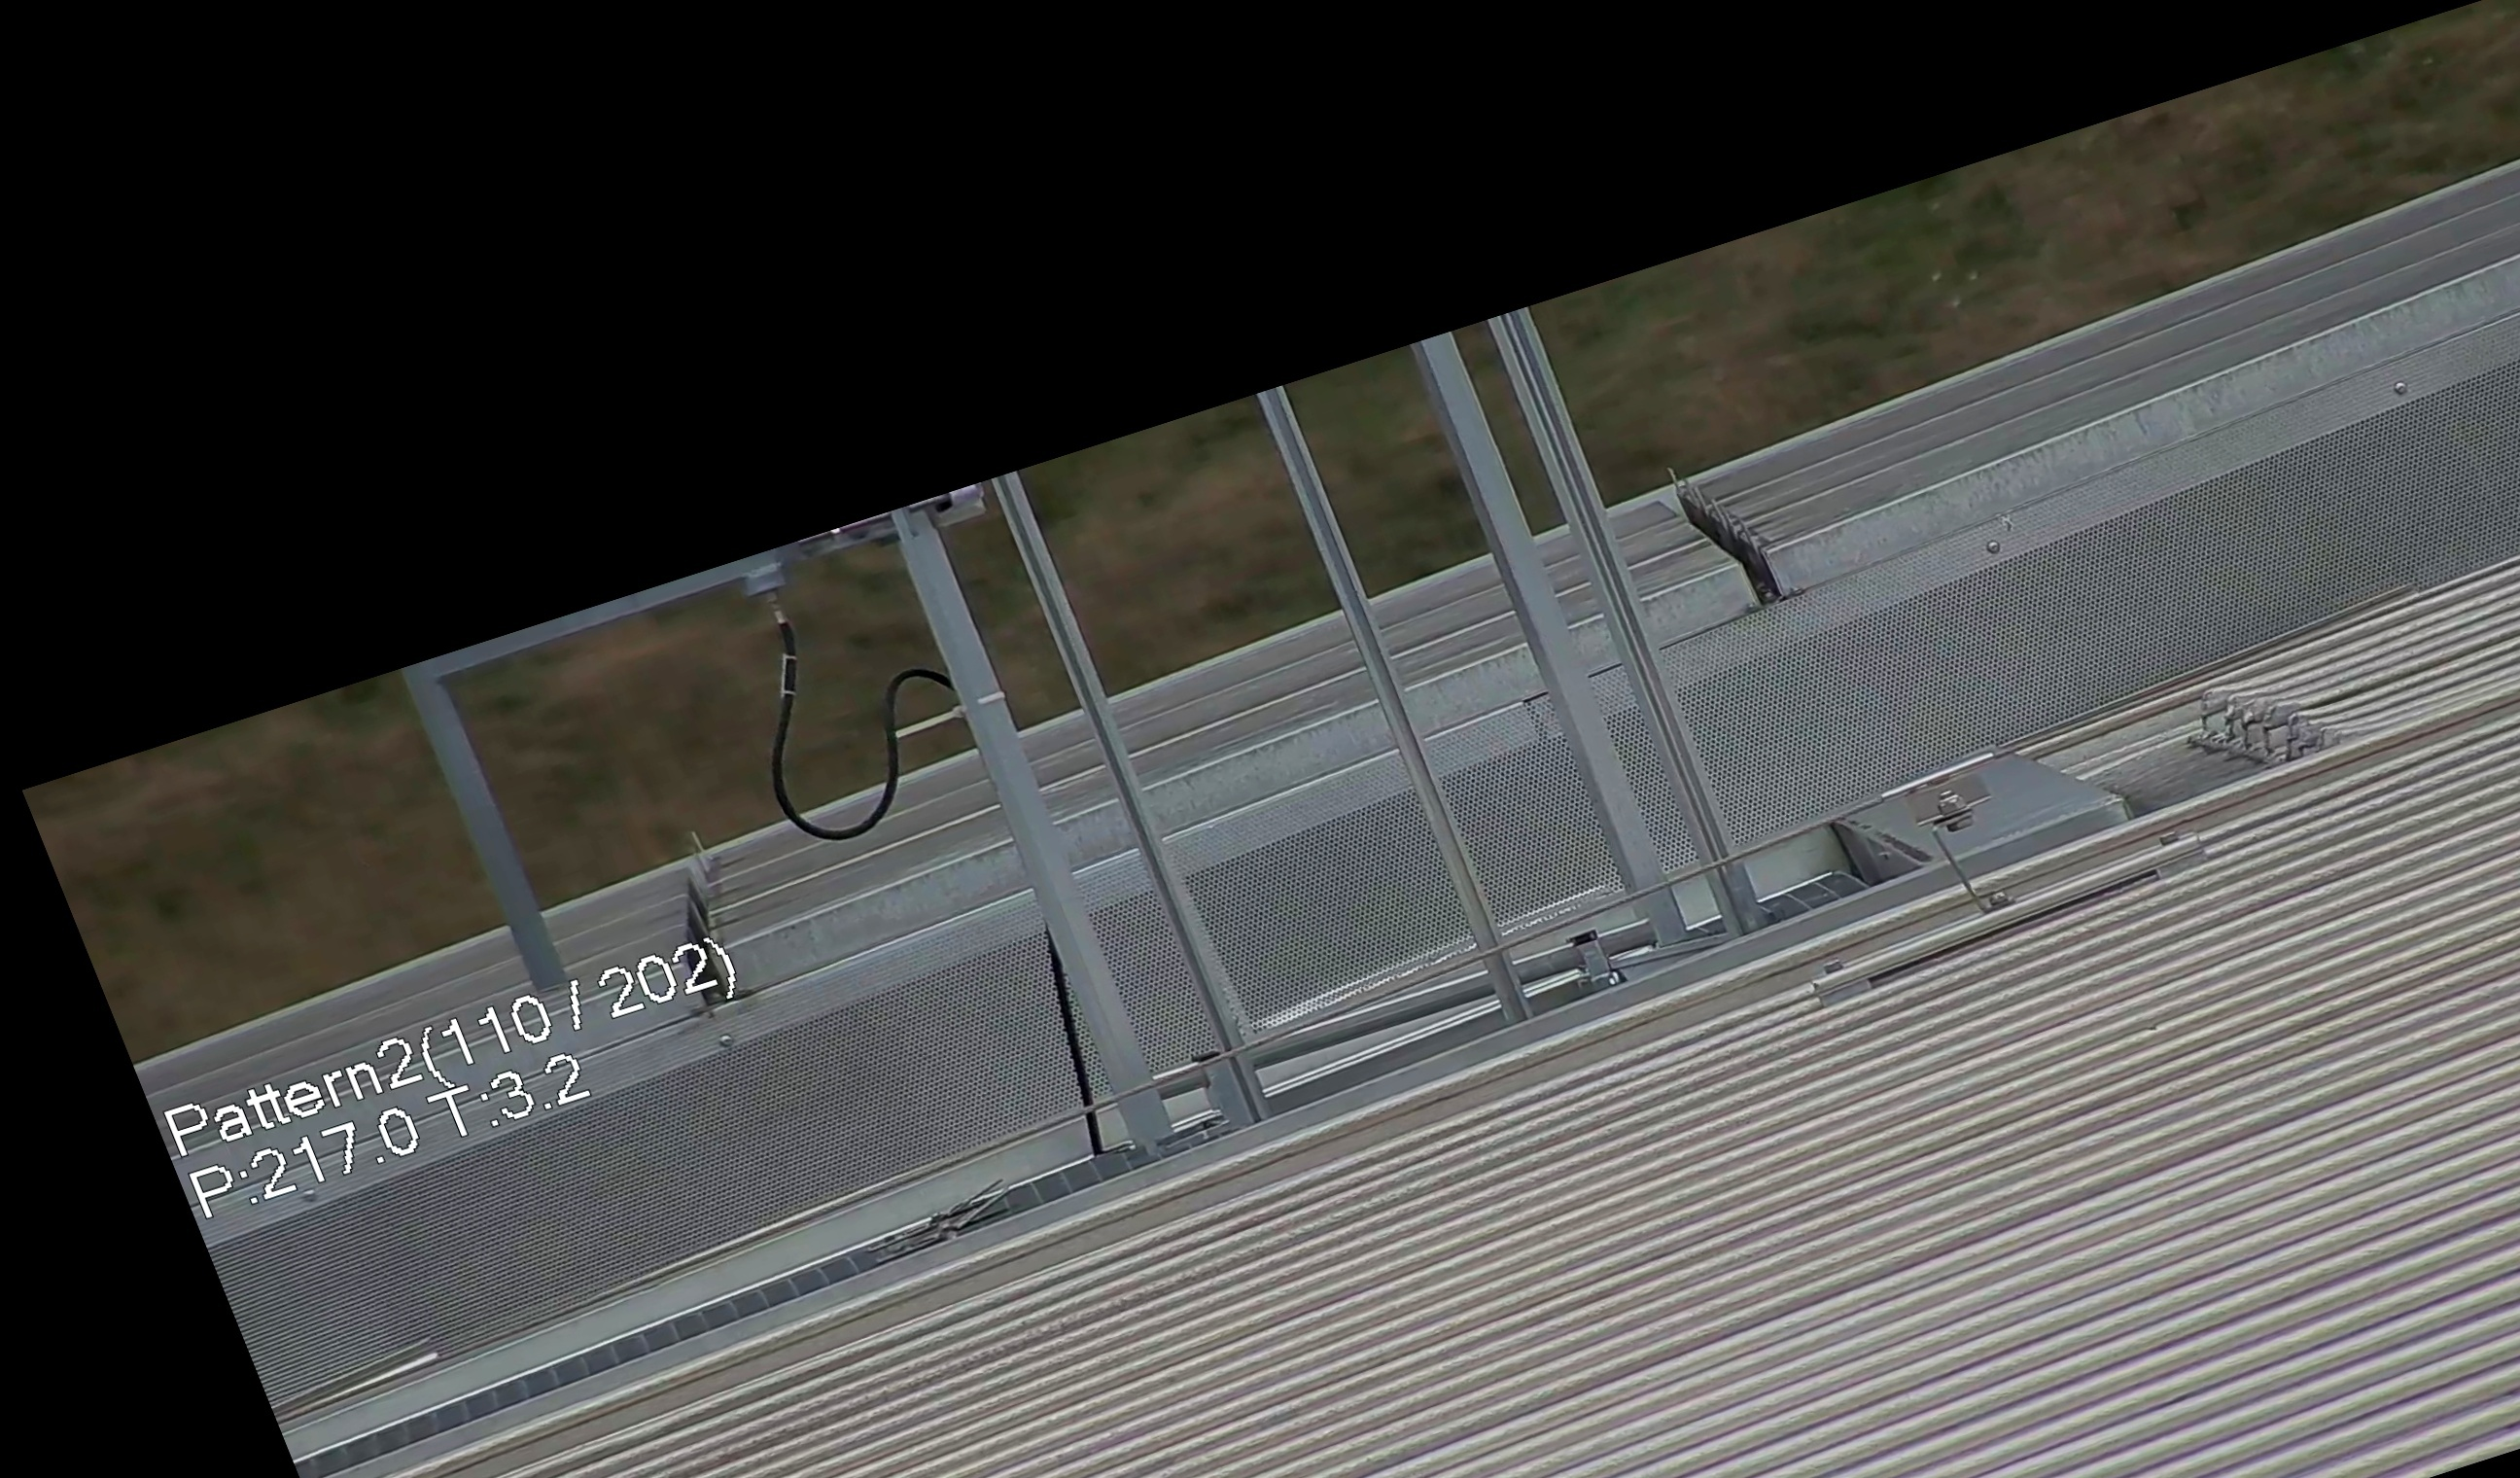Other: (1628, 435, 1815, 633)
